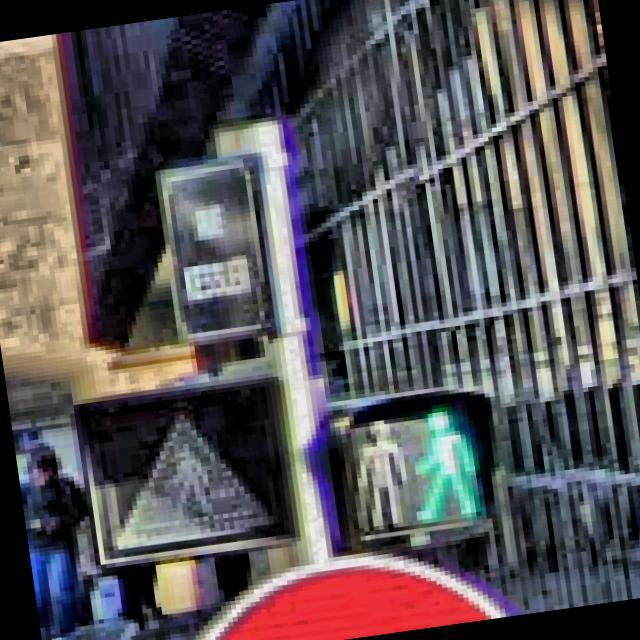green_light: (393, 393, 489, 527)
